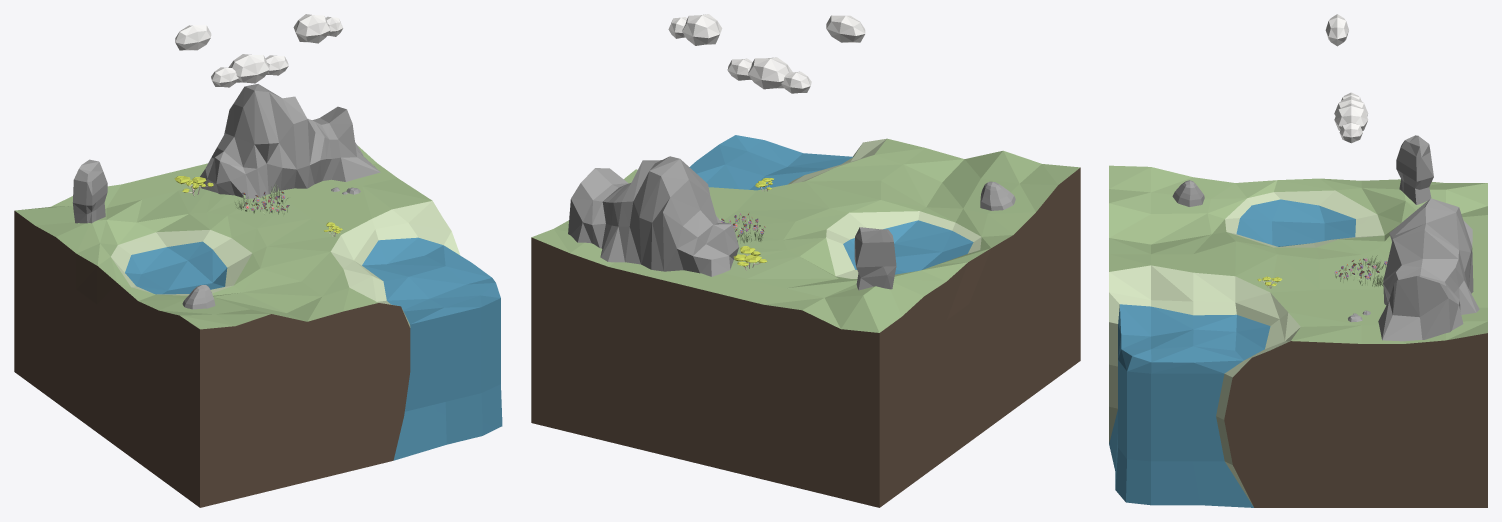
The model's file is Island_10.glb.
3 renders of one model, left to right at view 1: azimuth 30°, elevation 25°; view 2: azimuth 150°, elevation 25°; view 3: azimuth 270°, elevation 25°, orthographic. The views are drawn at different scales.
Visible parts, largest first — view 1: Isl10_Base, Isl10_Rock_2, Isl10_Stone_1, Isl10_Cloud_2, Isl10_Cloud_3, Isl10_Cloud_1, Isl10_Meadow, Isl10_Rock_1; view 2: Isl10_Base, Isl10_Rock_2, Isl10_Stone_1, Isl10_Cloud_2, Isl10_Cloud_3, Isl10_Cloud_1, Isl10_Rock_1; view 3: Isl10_Base, Isl10_Rock_2, Isl10_Stone_1, Isl10_Cloud_3, Isl10_Meadow, Isl10_Rock_1, Isl10_Cloud_1.
Part boxes in pixels (<box>): Isl10_Base: <box>14,145,502,507</box>; Isl10_Rock_2: <box>200,84,380,198</box>; Isl10_Stone_1: <box>72,159,107,223</box>; Isl10_Cloud_2: <box>211,54,288,87</box>; Isl10_Cloud_3: <box>293,14,343,43</box>; Isl10_Cloud_1: <box>175,25,211,50</box>; Isl10_Meadow: <box>234,184,290,215</box>; Isl10_Rock_1: <box>182,285,215,309</box>; Isl10_Base: <box>531,135,1080,507</box>; Isl10_Rock_2: <box>568,156,738,276</box>; Isl10_Stone_1: <box>854,227,896,290</box>; Isl10_Cloud_2: <box>727,57,811,93</box>; Isl10_Cloud_3: <box>668,14,722,45</box>; Isl10_Cloud_1: <box>826,15,865,42</box>; Isl10_Rock_1: <box>980,181,1015,210</box>; Isl10_Base: <box>1109,165,1487,507</box>; Isl10_Rock_2: <box>1378,198,1479,341</box>; Isl10_Stone_1: <box>1396,135,1433,204</box>; Isl10_Cloud_3: <box>1334,103,1368,143</box>; Isl10_Meadow: <box>1334,255,1387,286</box>; Isl10_Rock_1: <box>1172,180,1204,206</box>; Isl10_Cloud_1: <box>1325,14,1348,46</box>.
Bounding box in the file's own units: 20 × 22.29 × 20.
Materials: 1 (1 with a texture image).
